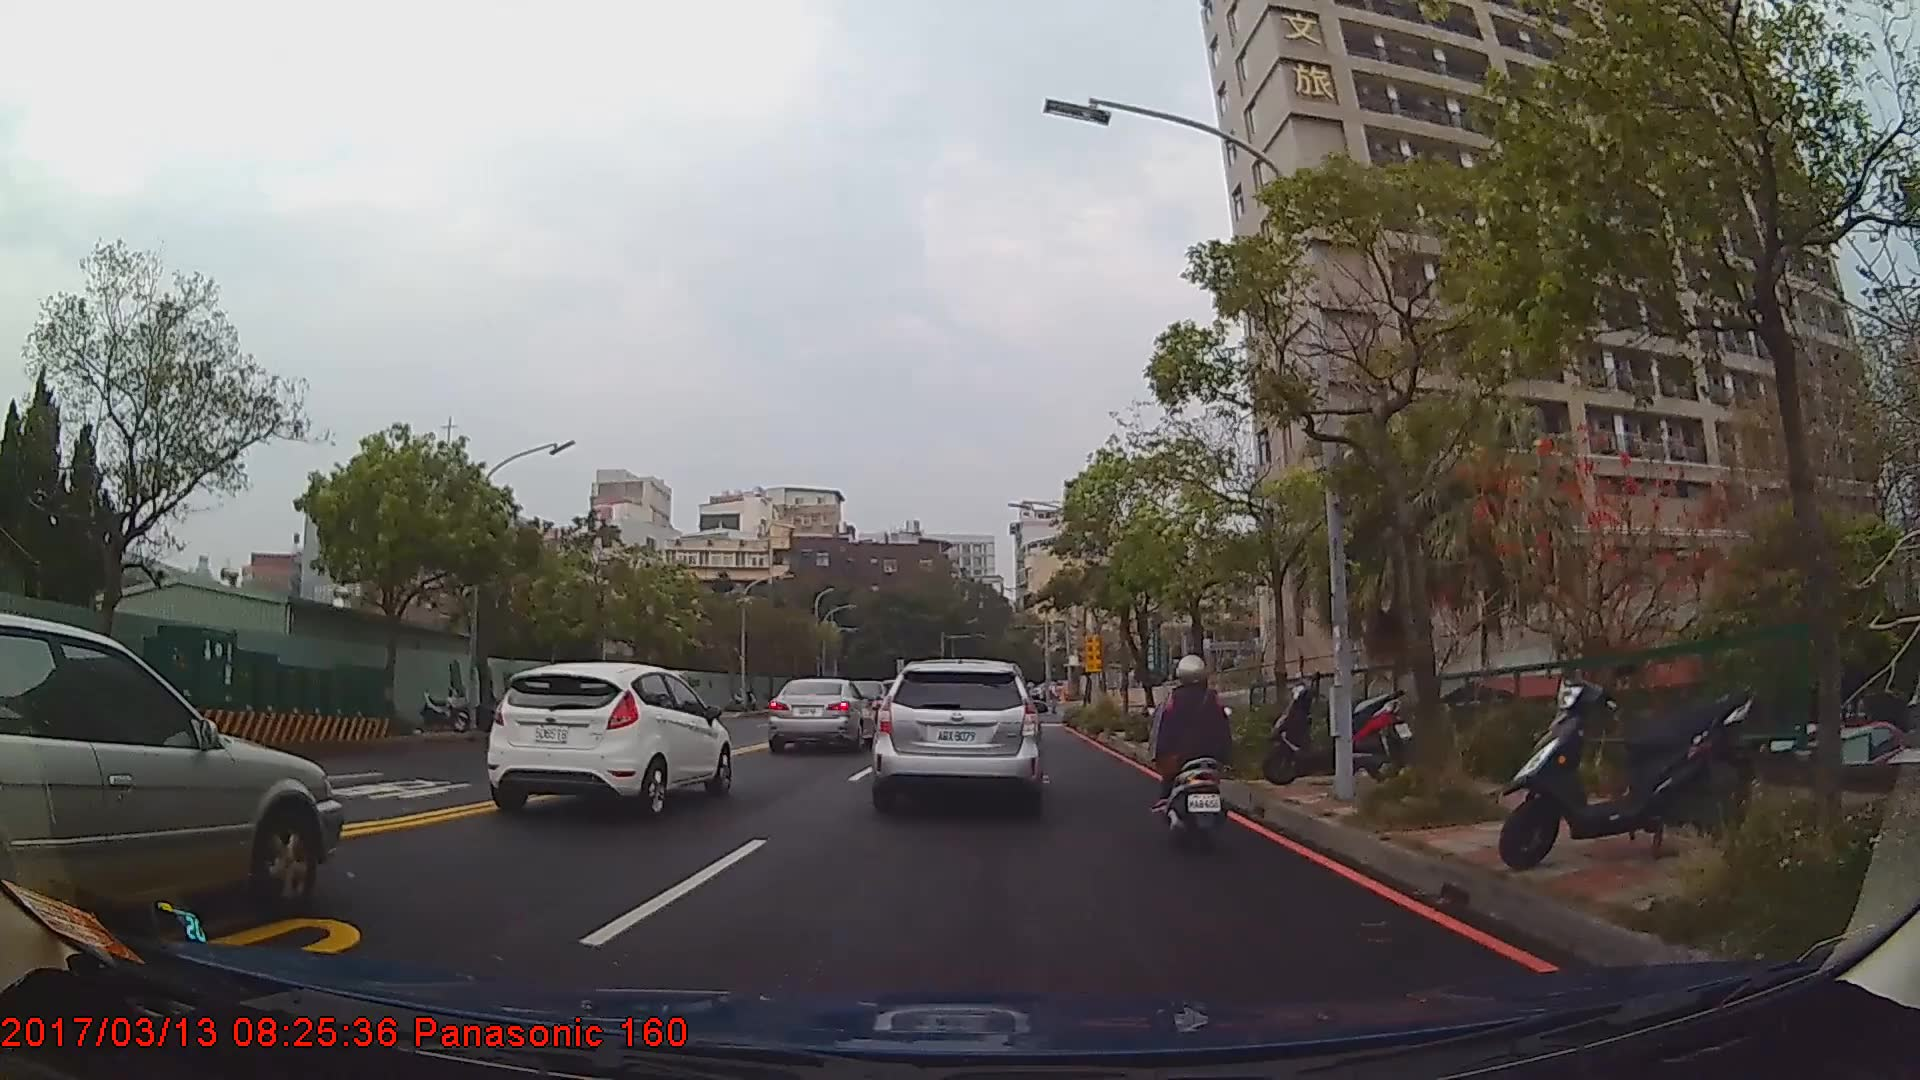rider: (1150, 655, 1229, 853)
vehicle: (0, 610, 340, 935), (486, 660, 730, 822), (872, 657, 1042, 816), (769, 676, 877, 755)
